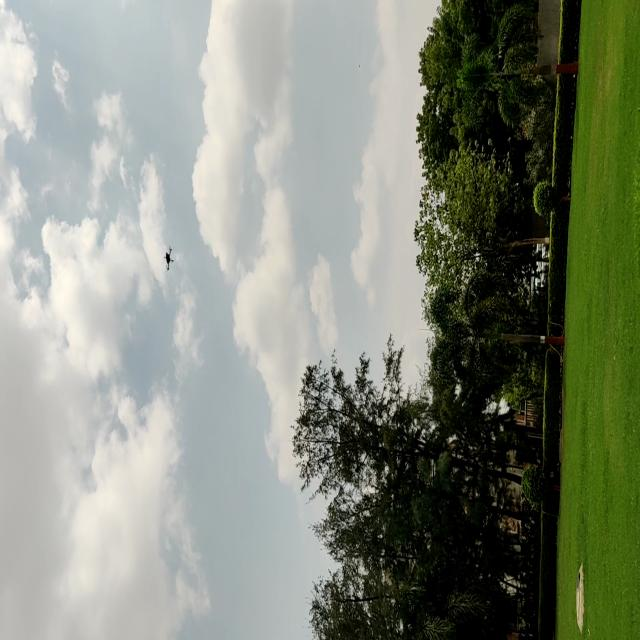drone: (160, 246, 178, 273)
